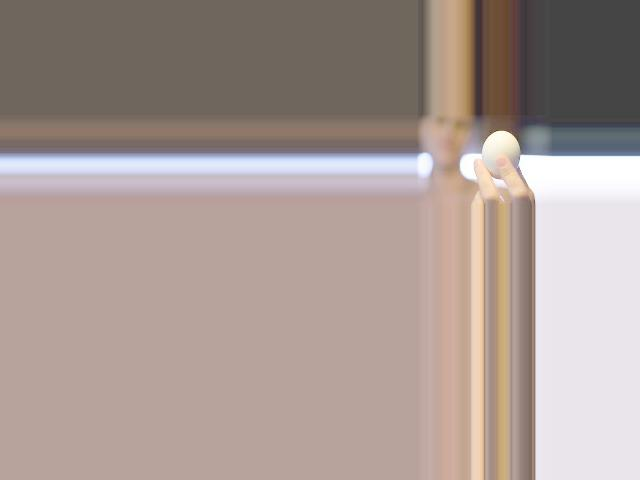egg: (480, 131, 519, 180)
